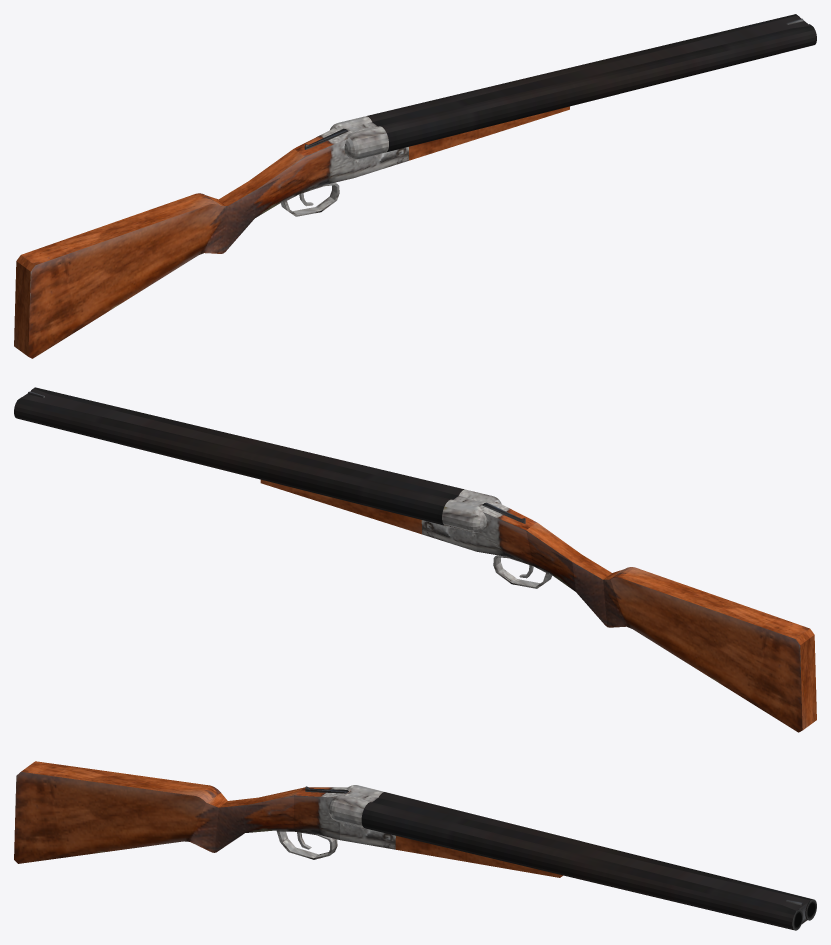
The model's file is DoubleBarrelShotgun.glb.
The picture shows the model from 3 angles, top to bottom: view 1: azimuth 30°, elevation 25°; view 2: azimuth 150°, elevation 25°; view 3: azimuth 330°, elevation 25°; orthographic projection.
Parts seen in each view (by area): view 1: Fram, Barrel; view 2: Fram, Barrel; view 3: Fram, Barrel.
Boxes of the visible parts, x1,y1,x2,y2 form: Fram: (14, 116, 408, 358); Barrel: (366, 14, 816, 160); Fram: (421, 489, 816, 732); Barrel: (14, 387, 464, 534); Fram: (14, 761, 395, 863); Barrel: (361, 792, 816, 930).
Bounding box in the file's own units: 0.8631 × 0.1542 × 0.0522.
Materials: 3 (3 with a texture image).
